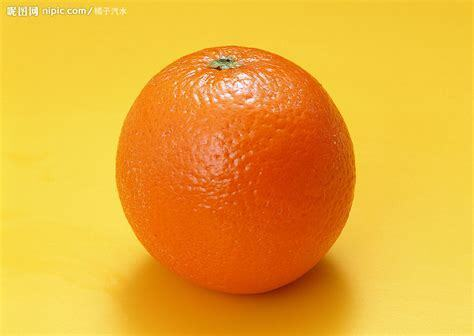orange: (115, 45, 358, 297)
